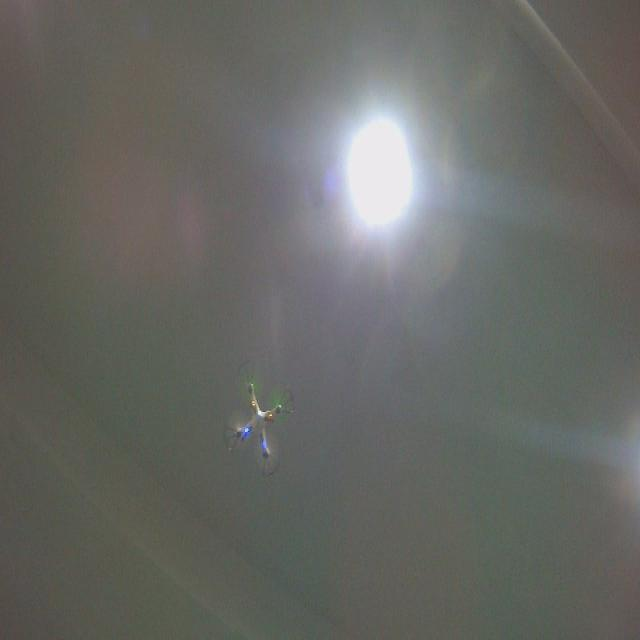drone: (222, 357, 298, 480)
